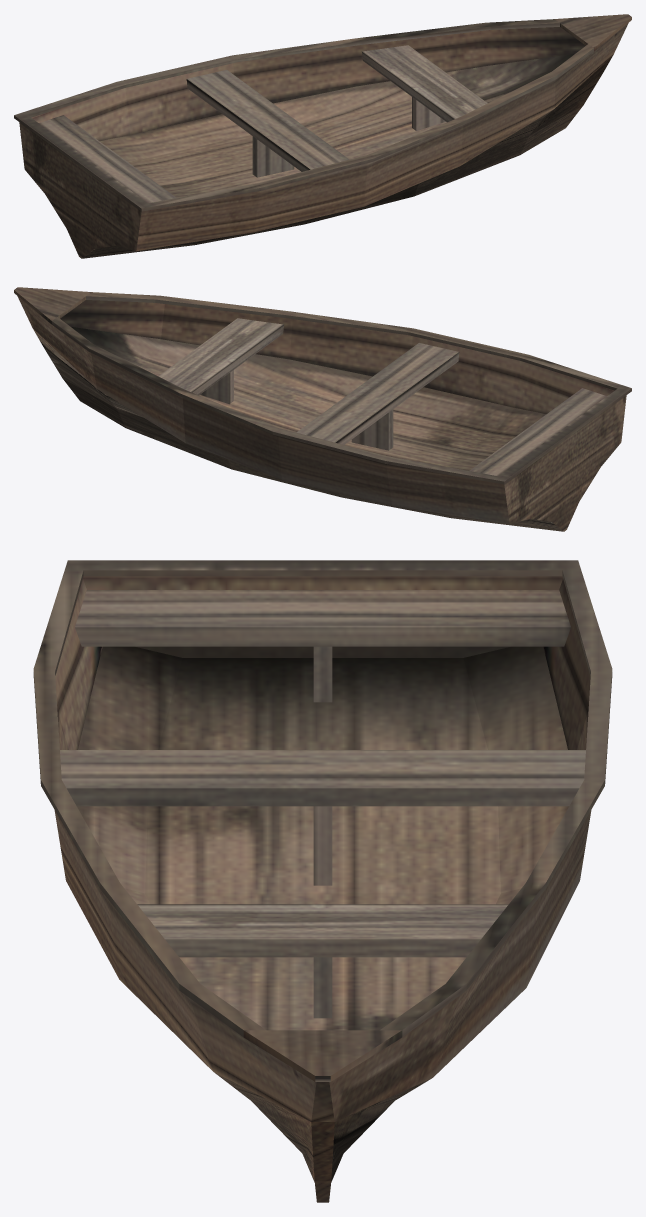
File: boat.fbx
3 renders of one model, top to bottom at view 1: azimuth 30°, elevation 25°; view 2: azimuth 150°, elevation 25°; view 3: azimuth 270°, elevation 25°, orthographic. The views are drawn at different scales.
Visible parts, largest first — view 1: GTA_Boat_01_obj; view 2: GTA_Boat_01_obj; view 3: GTA_Boat_01_obj.
Boxes of the visible parts, x1,y1,x2,y2 form: GTA_Boat_01_obj: (14,14,631,258); GTA_Boat_01_obj: (14,287,631,531); GTA_Boat_01_obj: (33,560,612,1202).
Bounding box in the file's own units: 418 × 90.32 × 190.
1 material, 1 textured.
